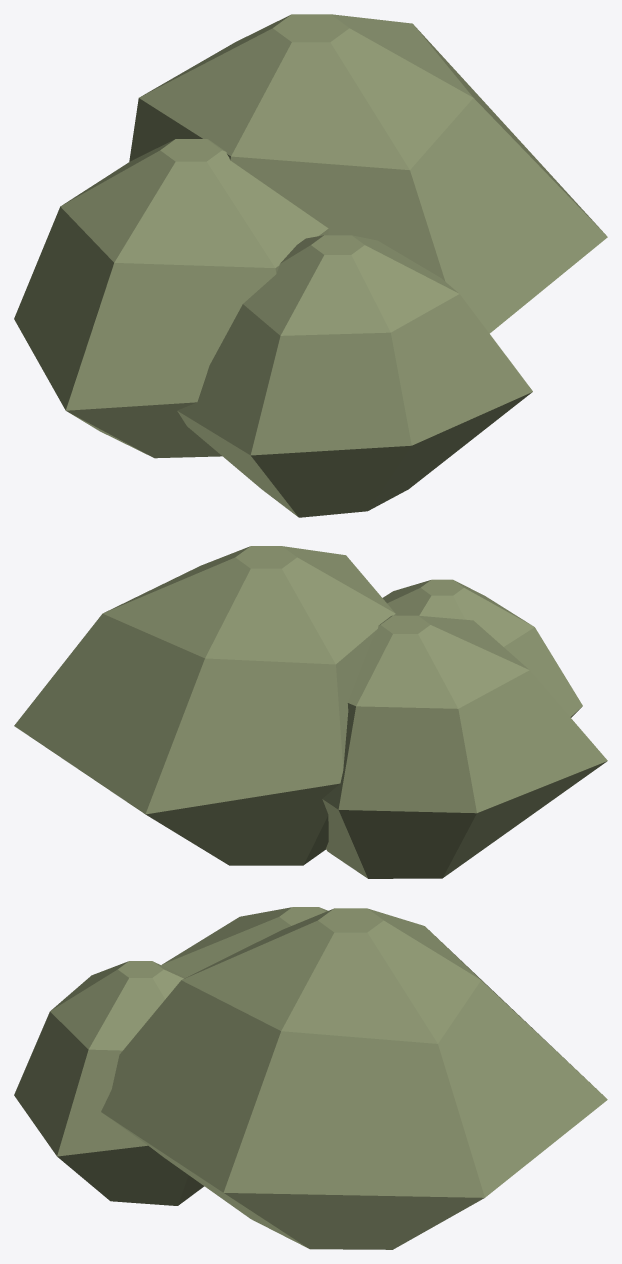
File: SM_Sagebrush_B.fbx
3 views of the same model, one above another, from view 1: azimuth 30°, elevation 25°; view 2: azimuth 150°, elevation 25°; view 3: azimuth 270°, elevation 25° (orthographic). The views are drawn at different scales.
Visible parts, largest first — view 1: Sagebrush_B; view 2: Sagebrush_B; view 3: Sagebrush_B.
Boxes of the visible parts, left/top/right/bottom form: Sagebrush_B: left=14, top=14, right=607, bottom=517; Sagebrush_B: left=14, top=546, right=607, bottom=878; Sagebrush_B: left=14, top=907, right=607, bottom=1249.
Size of the model in its own units: 187 by 197 by 109.
